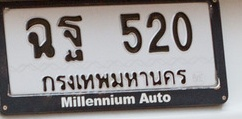txt07: (24, 17, 56, 60)
txt12: (56, 14, 86, 63)
